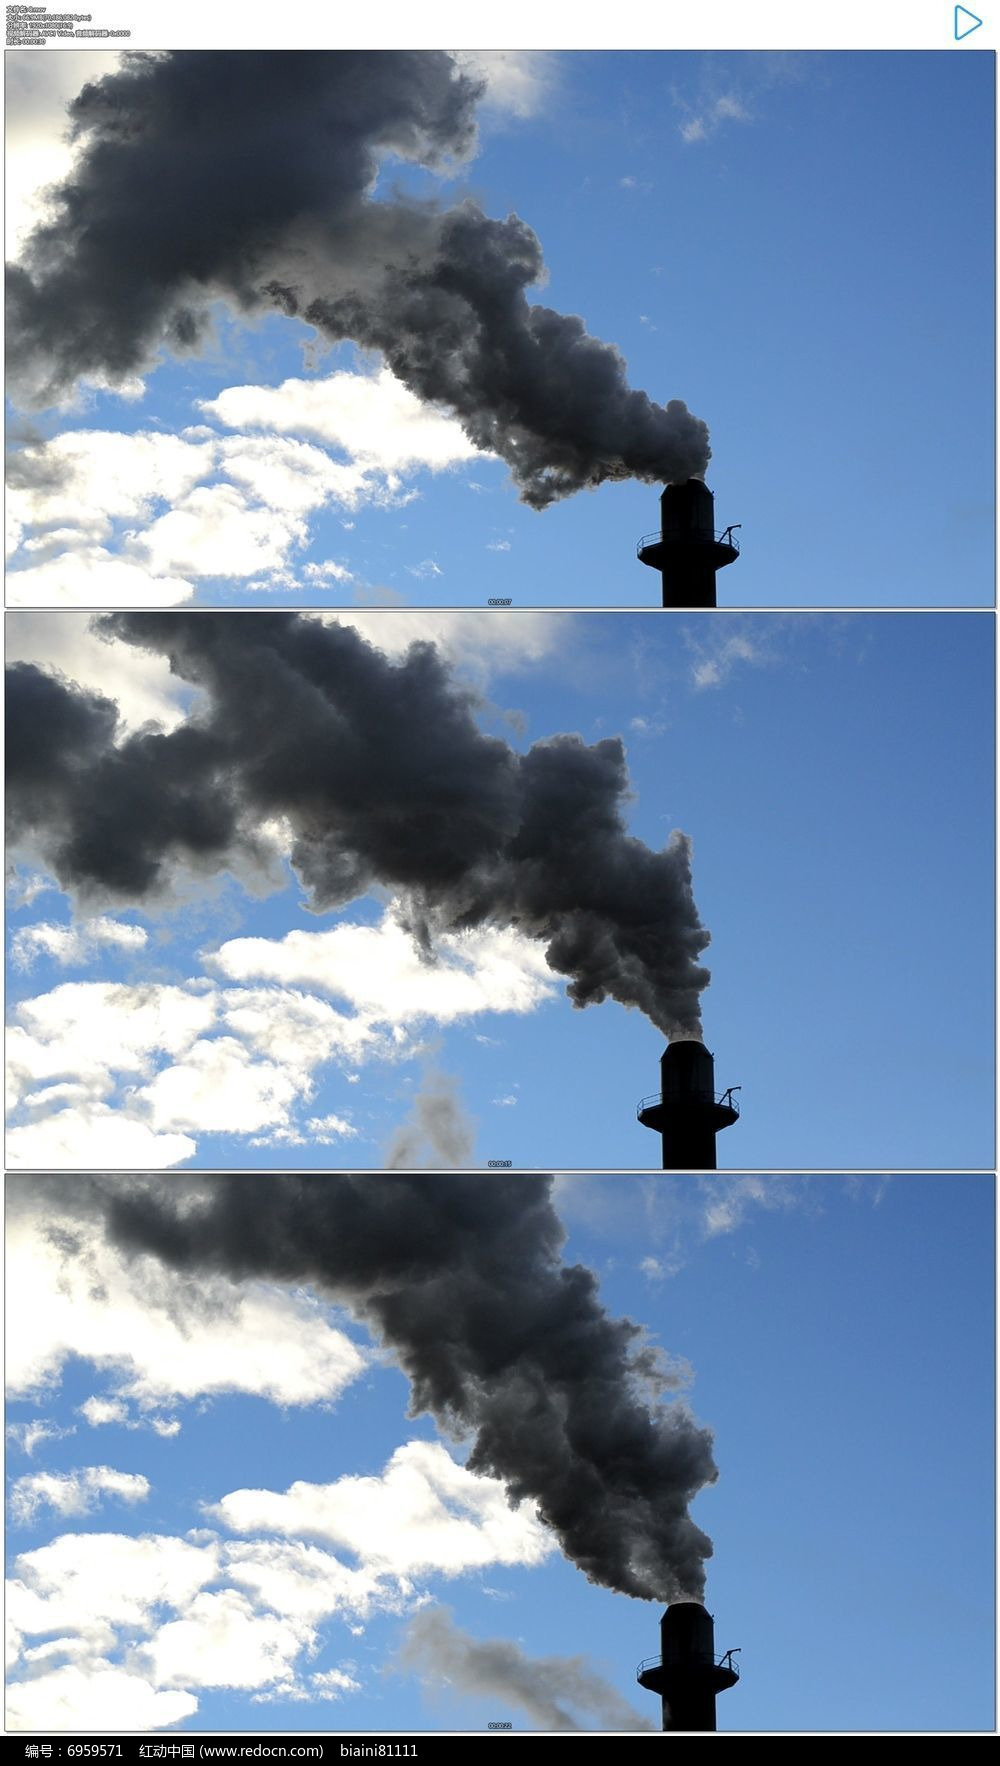dust: (52, 78, 806, 515), (106, 622, 795, 1069), (225, 1243, 852, 1622)
